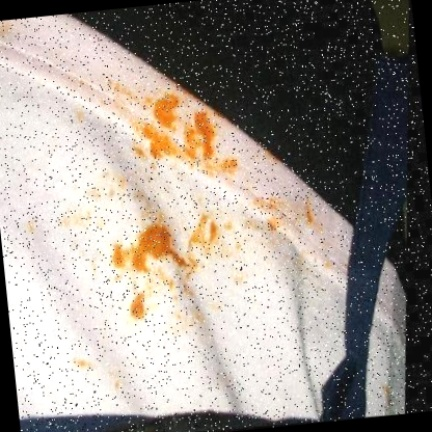kimchi: (103, 201, 231, 323), (117, 112, 225, 183), (237, 195, 325, 243), (103, 90, 185, 122), (57, 179, 115, 213), (288, 243, 335, 278), (228, 255, 259, 300), (94, 75, 142, 99), (70, 349, 110, 377), (223, 152, 242, 177), (74, 103, 91, 129), (378, 385, 396, 408), (0, 20, 19, 40), (23, 216, 40, 234)
